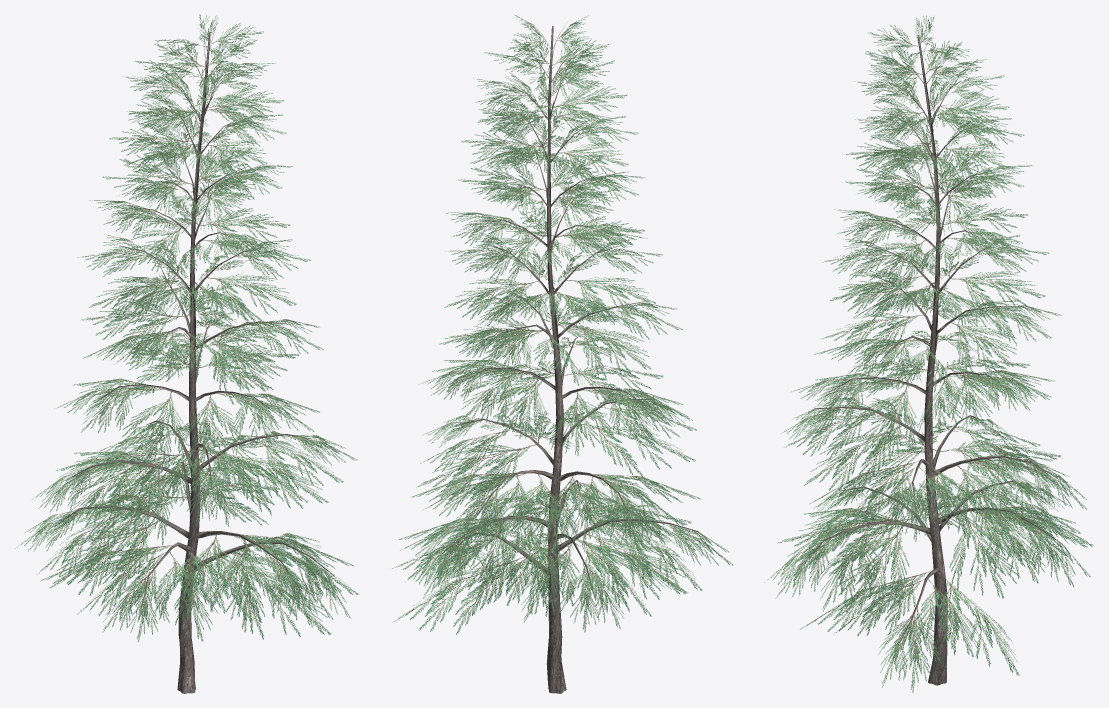
The model's file is fir.glb.
The picture shows the model from 3 angles, left to right: view 1: azimuth 30°, elevation 25°; view 2: azimuth 150°, elevation 25°; view 3: azimuth 270°, elevation 25°; orthographic projection.
Visible parts, largest first — view 1: tree.002; view 2: tree.002; view 3: tree.002.
Part boxes in pixels (x1,y1,x2,y2): tree.002: (15,14,358,693); tree.002: (392,15,733,693); tree.002: (764,15,1093,692).
Bounding box in the file's own units: 111 × 243 × 110.
2 materials, 2 textured.
